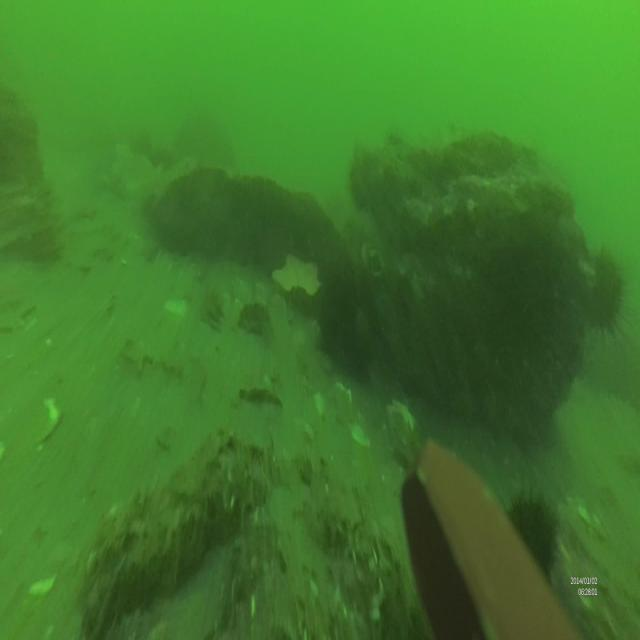echinus: (509, 483, 559, 594), (586, 244, 634, 342)
starfish: (270, 247, 324, 306)
